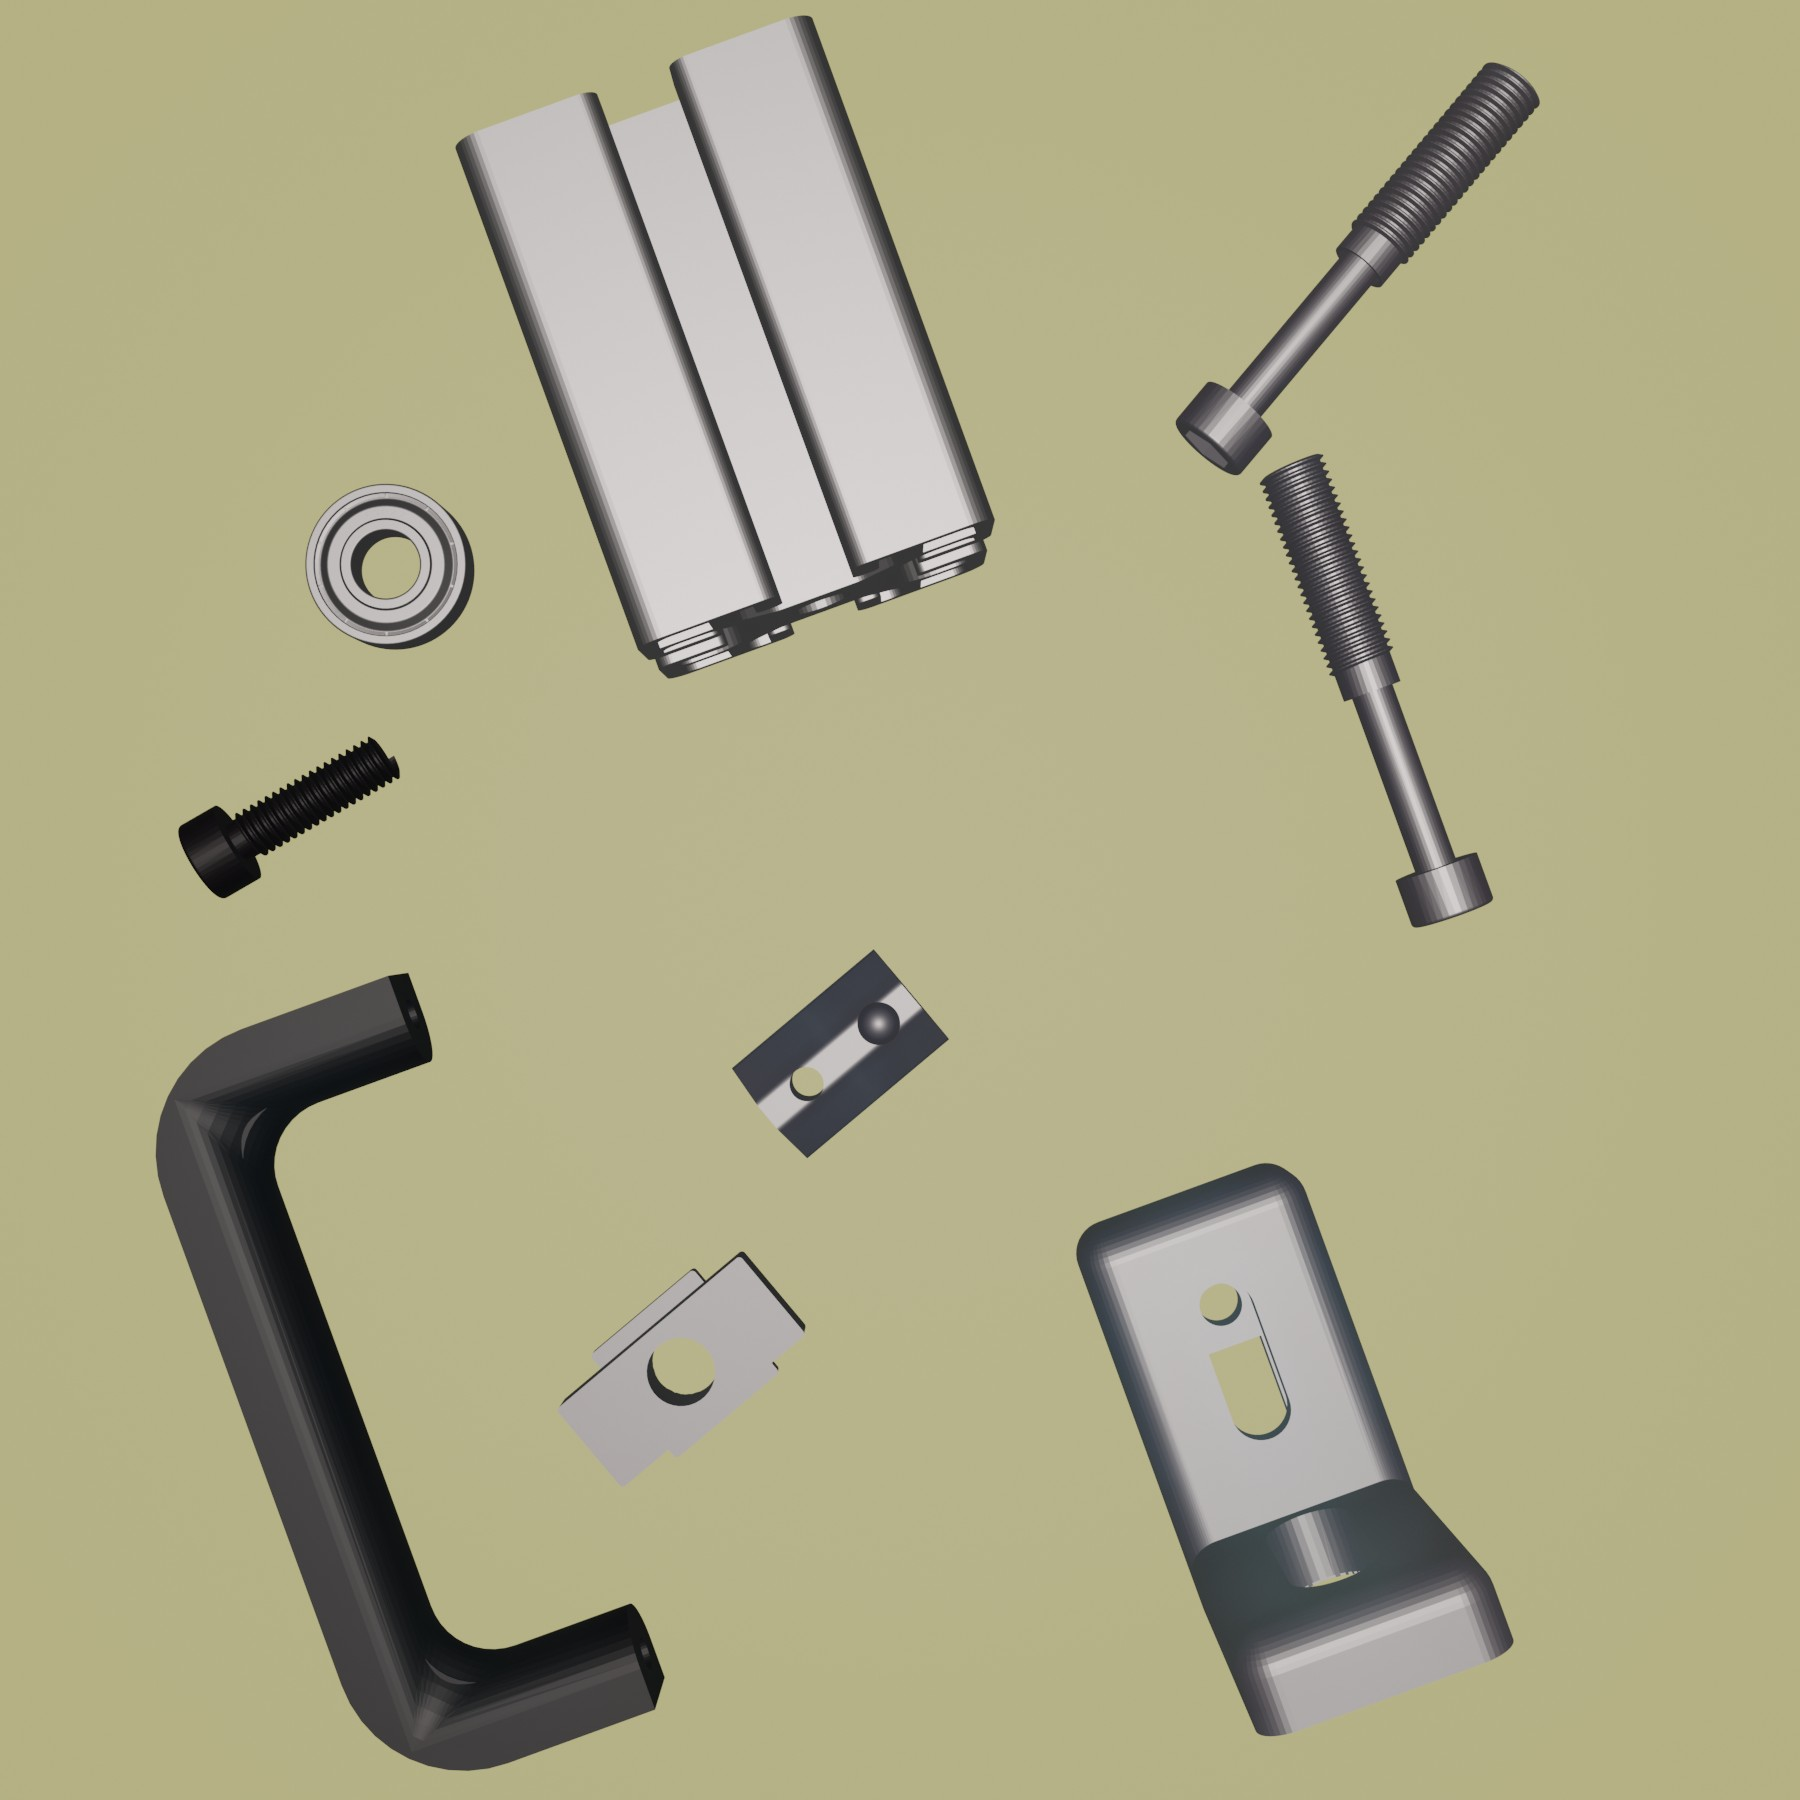Aluminium Extension: (453, 8, 997, 681)
Ball Bearing: (303, 480, 476, 653)
Multiwinkel: (1073, 1159, 1513, 1737)
Pull Handle: (153, 964, 668, 1772)
Shoulder Socket Head Cap Screw: (1167, 58, 1545, 480), (1258, 452, 1497, 931)
Socket Head Cap Screw: (175, 730, 401, 900)
T Nut Square: (555, 1245, 813, 1495)
T Spring Nut: (730, 945, 951, 1160)
